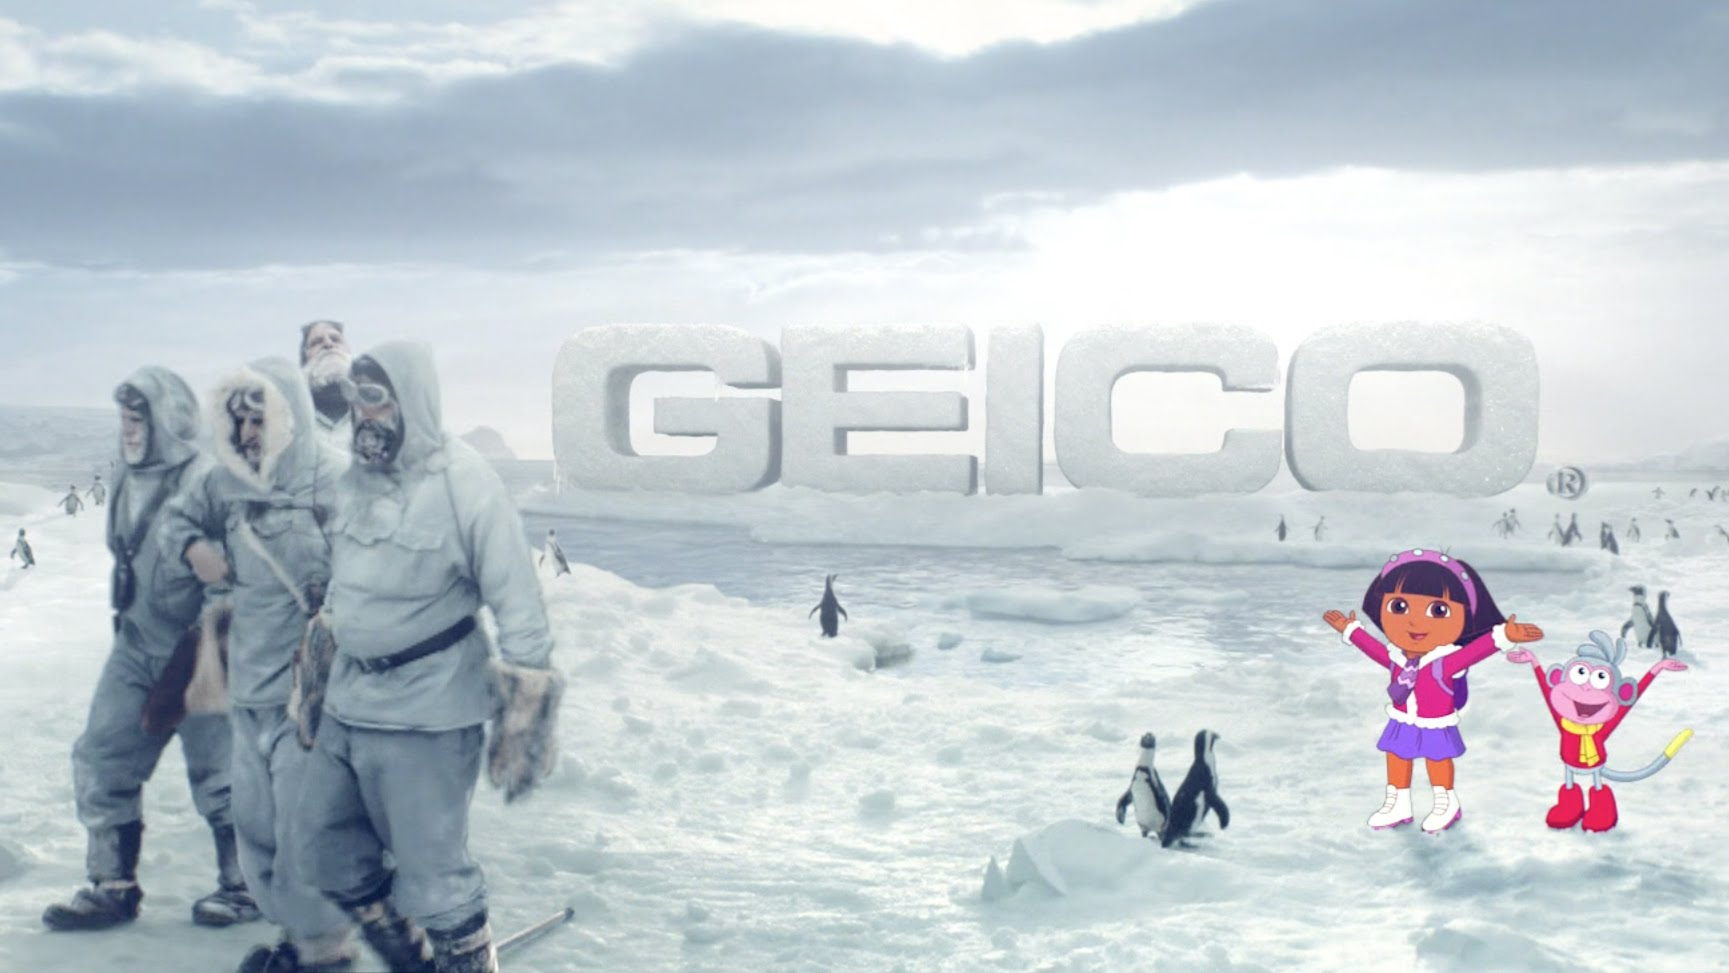geico: (531, 312, 1605, 537)
